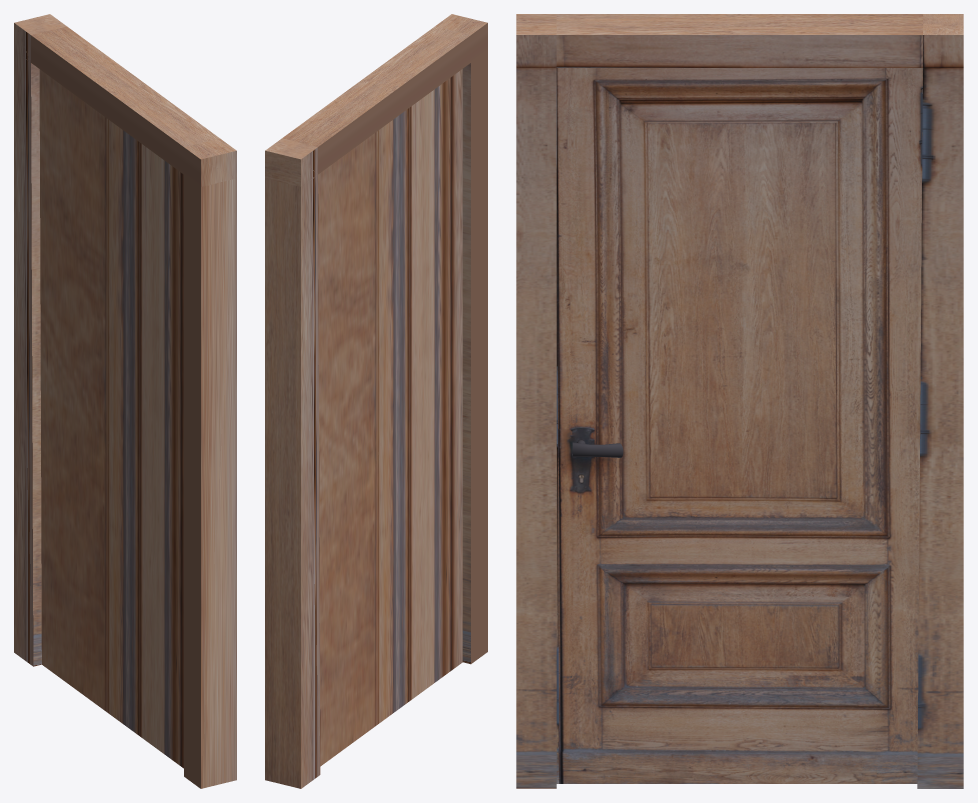
File: Door3.fbx
3 views of the same model, side by side, from view 1: azimuth 30°, elevation 25°; view 2: azimuth 150°, elevation 25°; view 3: azimuth 270°, elevation 25° (orthographic). The views are drawn at different scales.
Visible parts, largest first — view 1: Cube, Cube.002; view 2: Cube, Cube.002; view 3: Cube, Cube.002.
Boxes of the visible parts, <box> form: Cube: <box>39,69,183,768</box>; Cube.002: <box>14,14,236,788</box>; Cube: <box>318,69,462,766</box>; Cube.002: <box>265,14,487,788</box>; Cube: <box>556,68,922,783</box>; Cube.002: <box>516,14,963,788</box>.
Size of the model in its own units: 51.41 by 748 by 402.
